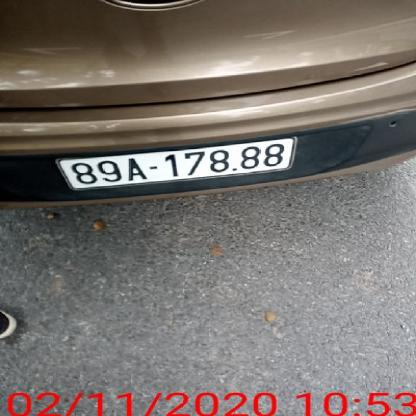biensoxe: (54, 135, 299, 191)
